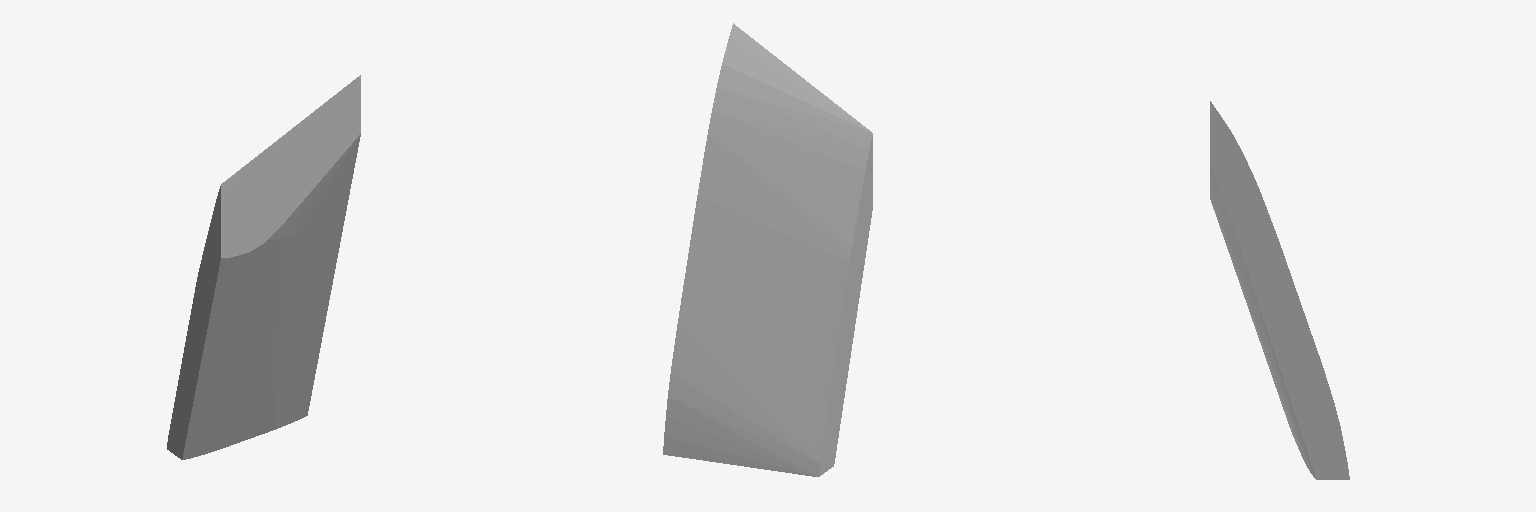
Rendered from phantom-elastrat_collision_39.obj.
The picture shows the model from 3 angles: view 1: azimuth 30°, elevation 25°; view 2: azimuth 150°, elevation 25°; view 3: azimuth 270°, elevation 25°; orthographic projection.
Bounding box in the file's own units: 0.0087 × 0.0225 × 0.0075.